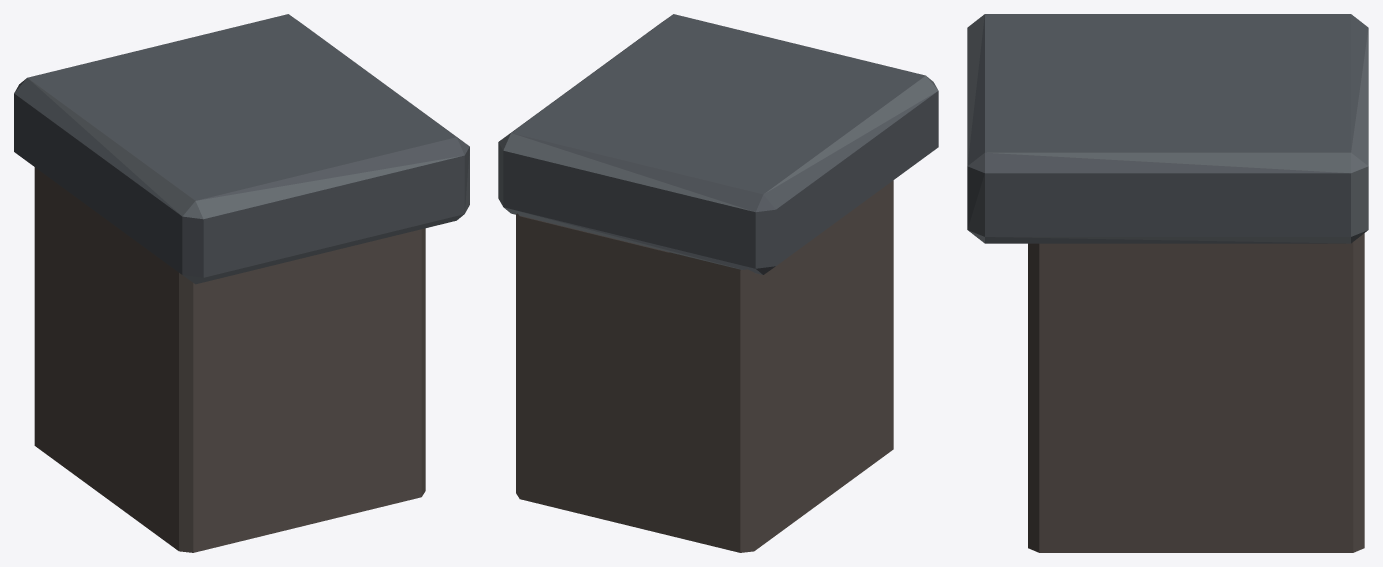
The model's file is MCastle_LargeTurrets_14.FBX.
3 renders of one model, left to right at view 1: azimuth 30°, elevation 25°; view 2: azimuth 150°, elevation 25°; view 3: azimuth 270°, elevation 25°, orthographic. The views are drawn at different scales.
Parts seen in each view (by area): view 1: MCastle_LargeTurrets_14_Wall_LOD0; view 2: MCastle_LargeTurrets_14_Wall_LOD0; view 3: MCastle_LargeTurrets_14_Wall_LOD0.
Part boxes in pixels (x1,y1,x2,y2): MCastle_LargeTurrets_14_Wall_LOD0: (14, 14, 469, 552); MCastle_LargeTurrets_14_Wall_LOD0: (498, 14, 938, 552); MCastle_LargeTurrets_14_Wall_LOD0: (967, 14, 1368, 552).
Bounding box in the file's own units: 1.58 × 1.94 × 1.75.
